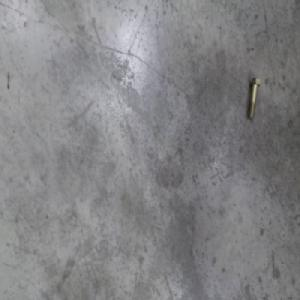Bolt: (245, 72, 258, 116)
